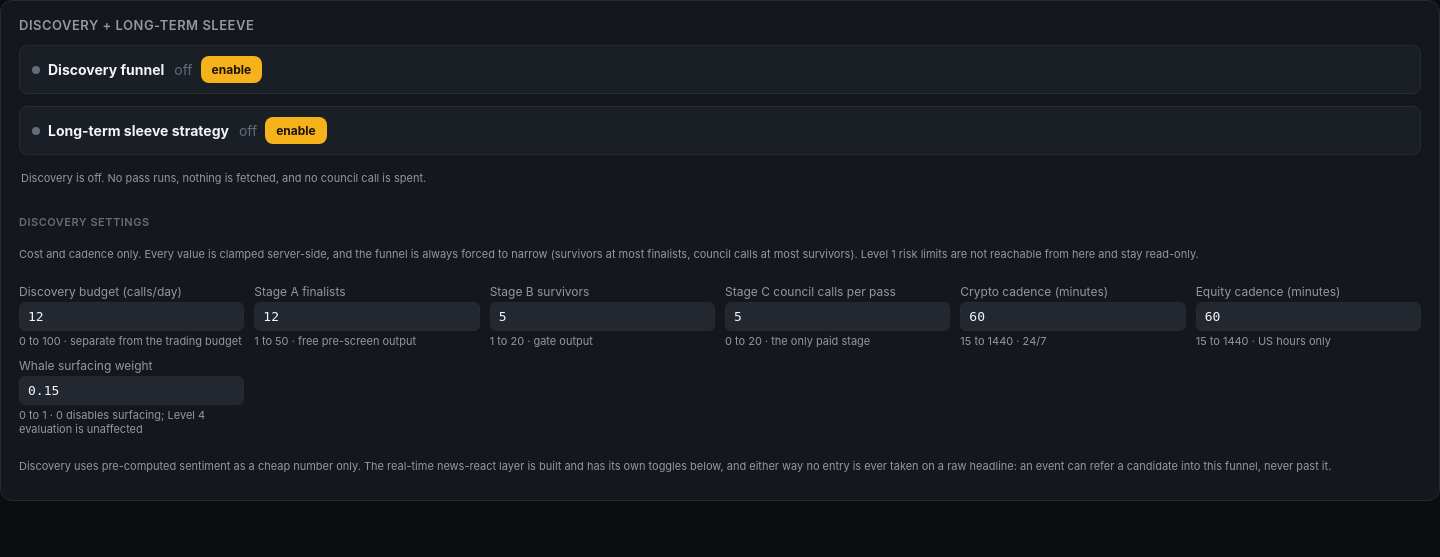
Test: settings controls › says when the server clamped a value
Replace the text in the number field labelled "Stage A finalists" with "9999": {"x": 367, "y": 316} [254,302,480,331]
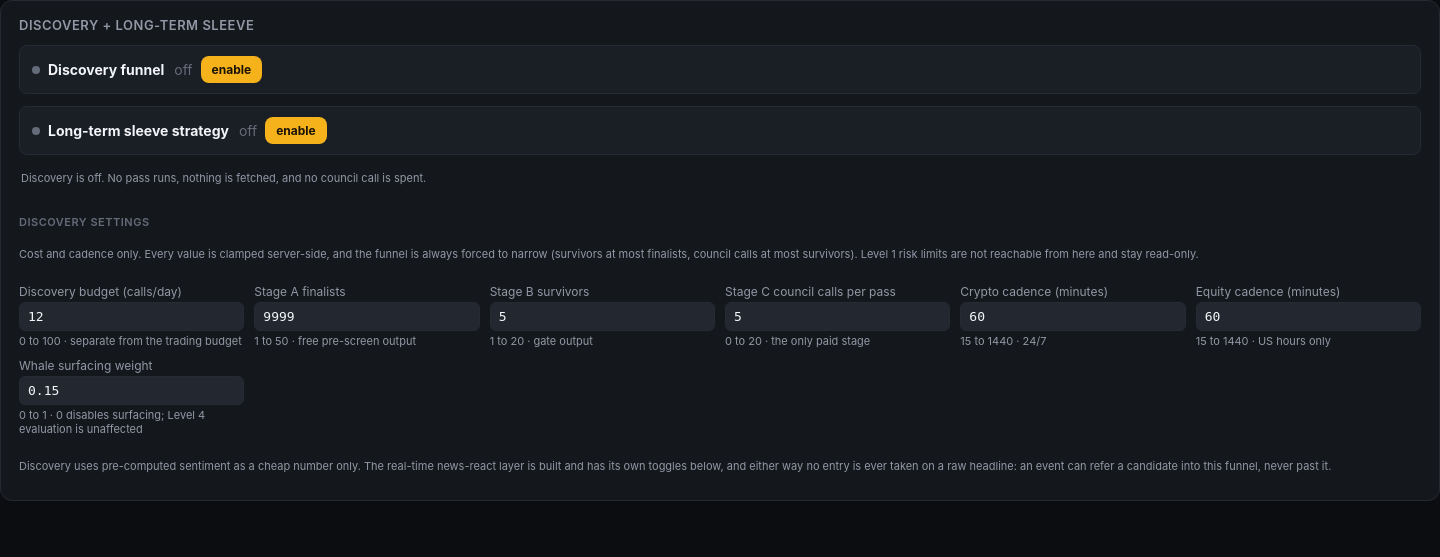
Leave the number field labelled "Stage A finalists", box [254,302,480,331]
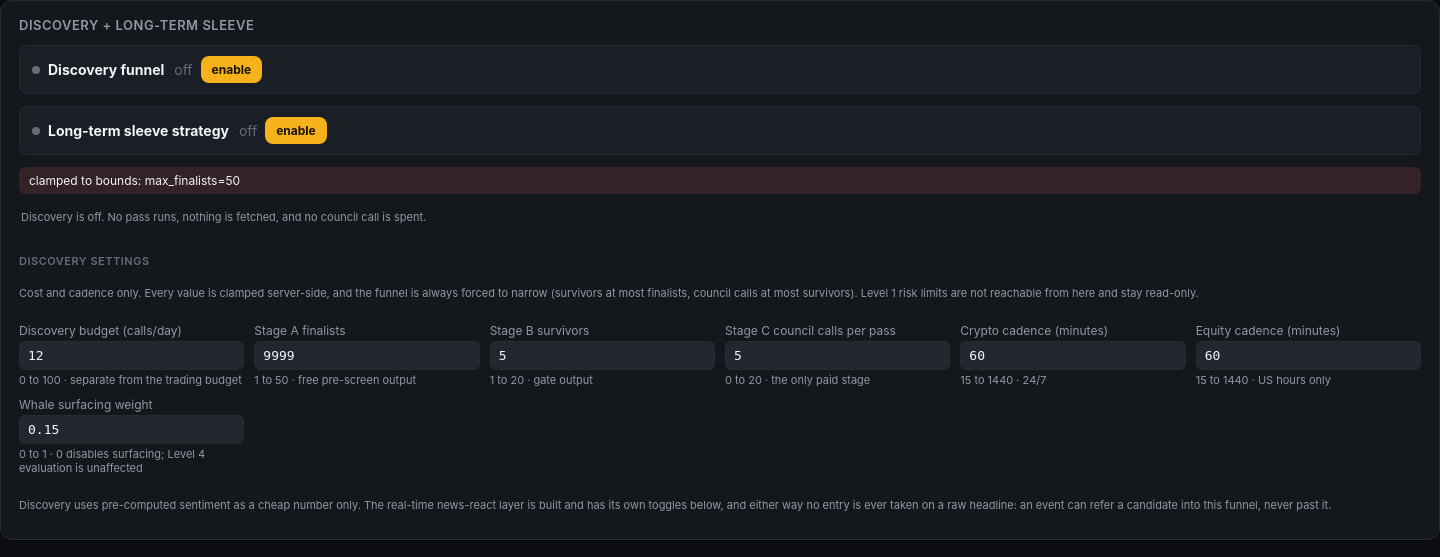
Now the text with test id "disc-msg" reads "clamped to bounds: max_finalists=50", box [29,173,240,188]
